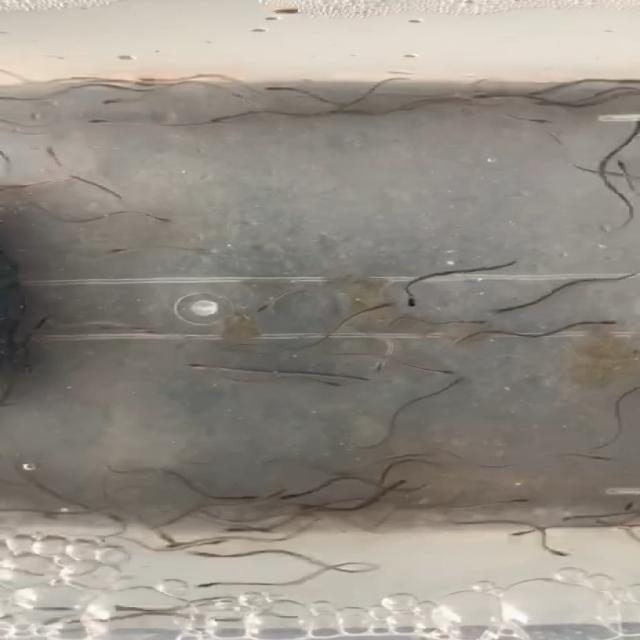active_glass_eel: (513, 112, 567, 128), (194, 114, 234, 132), (73, 116, 113, 134), (132, 76, 168, 95), (100, 245, 132, 262), (150, 207, 180, 224), (132, 318, 157, 338), (34, 315, 66, 329), (552, 514, 596, 524), (278, 488, 314, 500), (260, 80, 290, 94), (183, 358, 213, 372), (363, 360, 395, 373), (469, 88, 505, 99), (40, 144, 70, 156), (193, 549, 222, 561), (484, 306, 518, 316), (464, 315, 490, 328), (382, 478, 408, 491), (99, 96, 127, 108), (400, 297, 428, 309), (316, 380, 340, 394), (134, 72, 160, 84), (592, 454, 618, 466), (196, 576, 222, 588), (435, 366, 459, 378), (255, 302, 281, 313), (353, 373, 373, 387), (444, 378, 472, 388), (500, 532, 528, 542), (522, 86, 544, 98), (234, 494, 258, 505), (595, 318, 619, 328), (507, 497, 529, 507), (257, 524, 283, 532), (552, 549, 572, 559), (224, 526, 242, 534)
